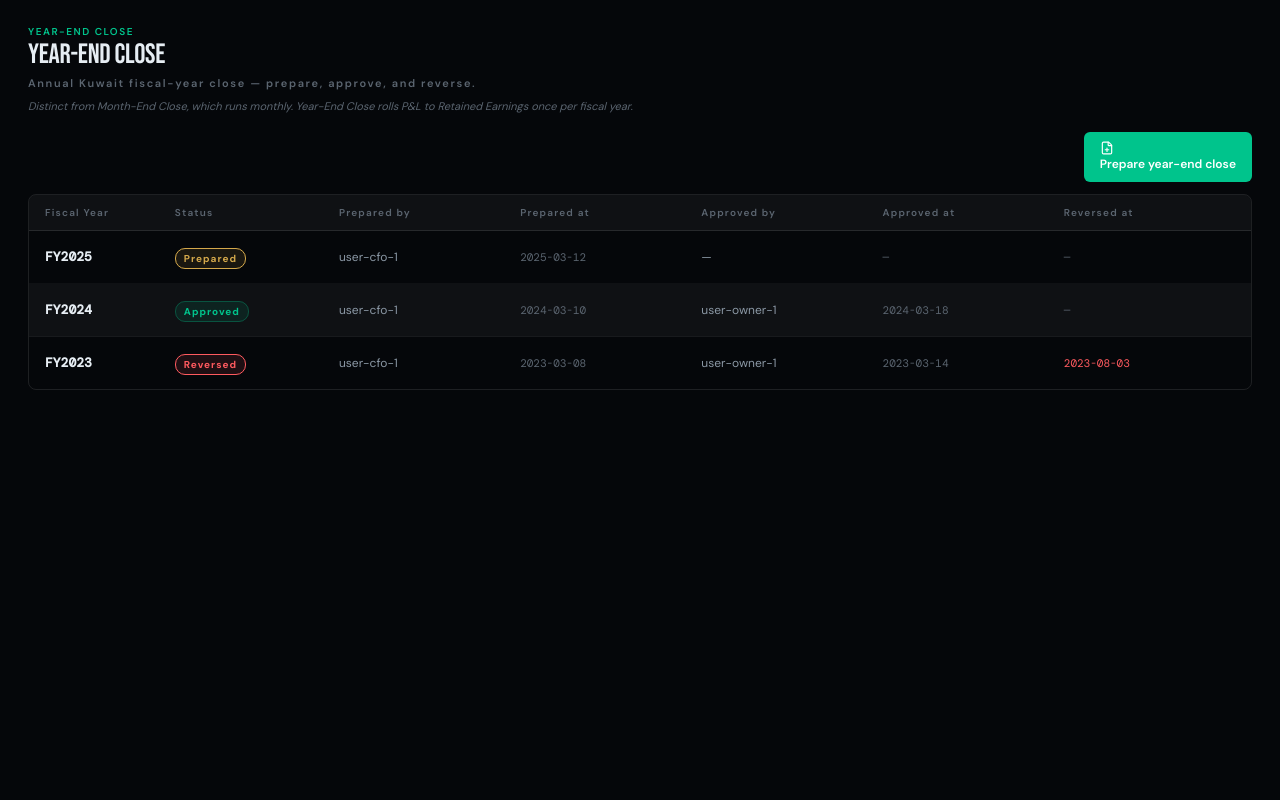
Test case: YearEndCloseScreen — detail view › REVERSED detail shows terminal note, no action buttons
Click the button with aria-label "Open fiscal-year detail": (76, 363) [29, 337, 1251, 389]
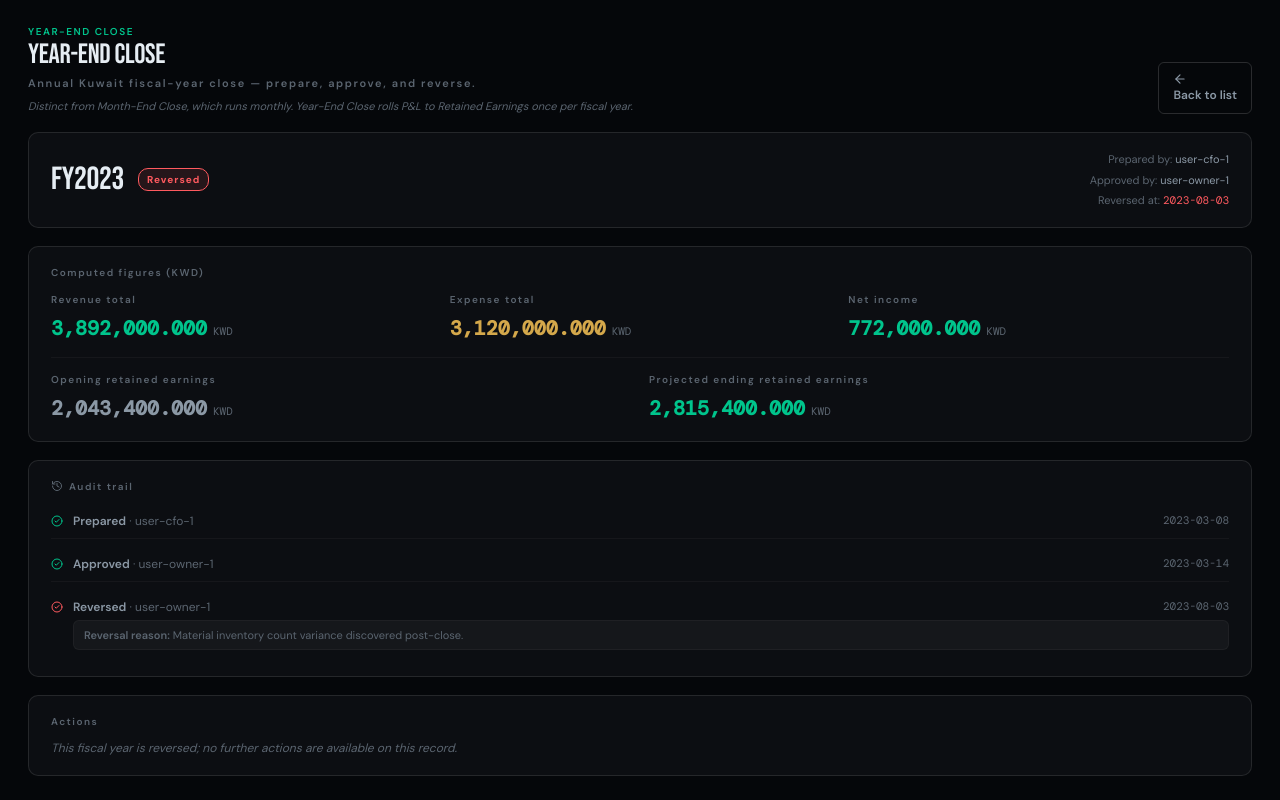
Check: the element with test id "yec-detail-view" is shown
Check: the text "This fiscal year is reversed; no further actions are available on this record." is shown, box [51, 740, 457, 756]
